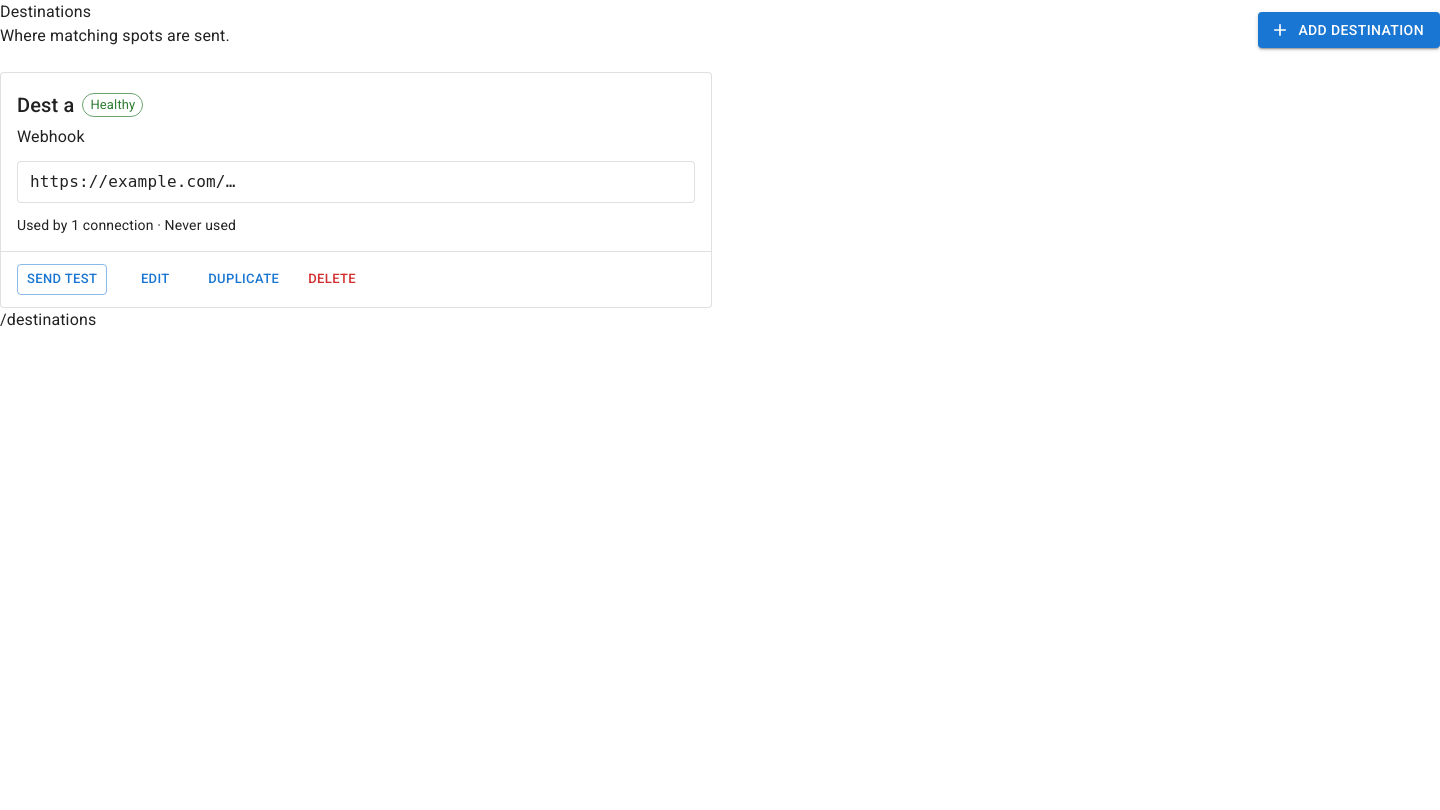
DestinationsPage › words the warning for one connection
This screenshot has width=1440, height=810.
Click the button with aria-label "Delete Dest a" at (332, 279), box [300,264,364,295]
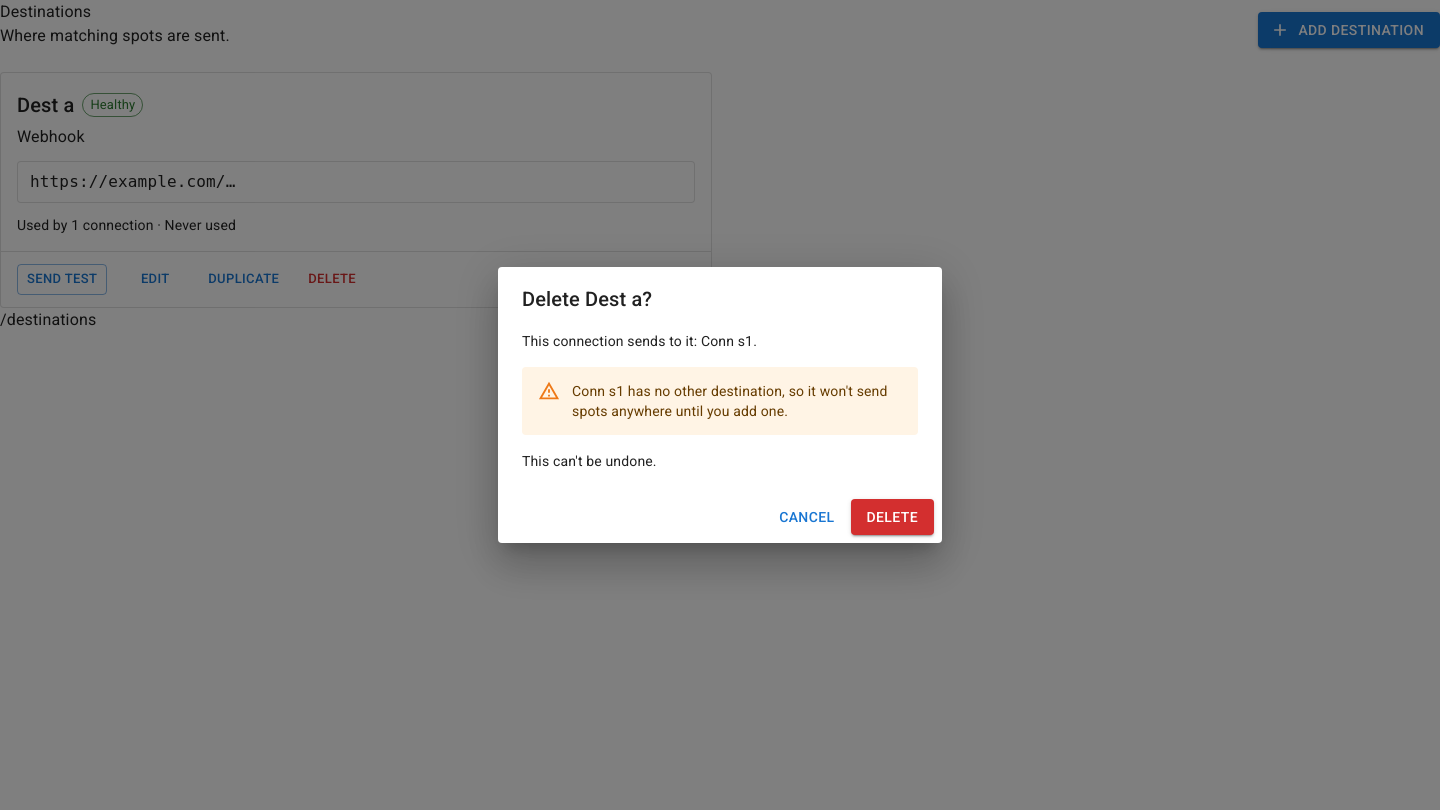
Expected: the dialog shows "This connection sends to it: Conn s1.", [498,267,942,543]
Expected: the message shows "Conn s1 has no other destination, so it won't send spots anywhere until you add one.", [522,367,918,435]
